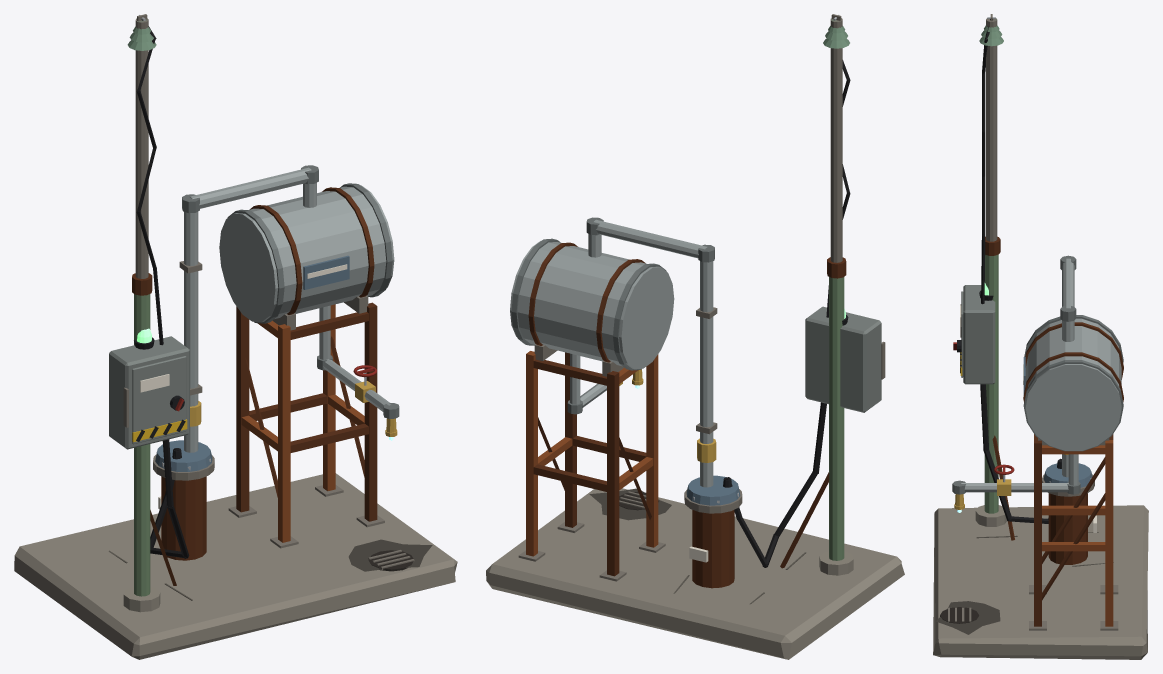
File: well.glb
3 views of the same model, side by side, from view 1: azimuth 30°, elevation 25°; view 2: azimuth 150°, elevation 25°; view 3: azimuth 270°, elevation 25° (orthographic). The views are drawn at different scales.
Parts seen in each view (by area): view 1: well, well_wet; view 2: well, well_wet; view 3: well, well_wet.
Part boxes in pixels (box(x1,y1,x2,y2)): well: box(14, 14, 457, 659); well_wet: box(348, 539, 432, 571); well: box(486, 14, 904, 659); well_wet: box(589, 488, 671, 520); well: box(933, 14, 1148, 659); well_wet: box(936, 601, 1000, 634).
Size of the model in its own units: 1.82 by 3.26 by 1.21.
